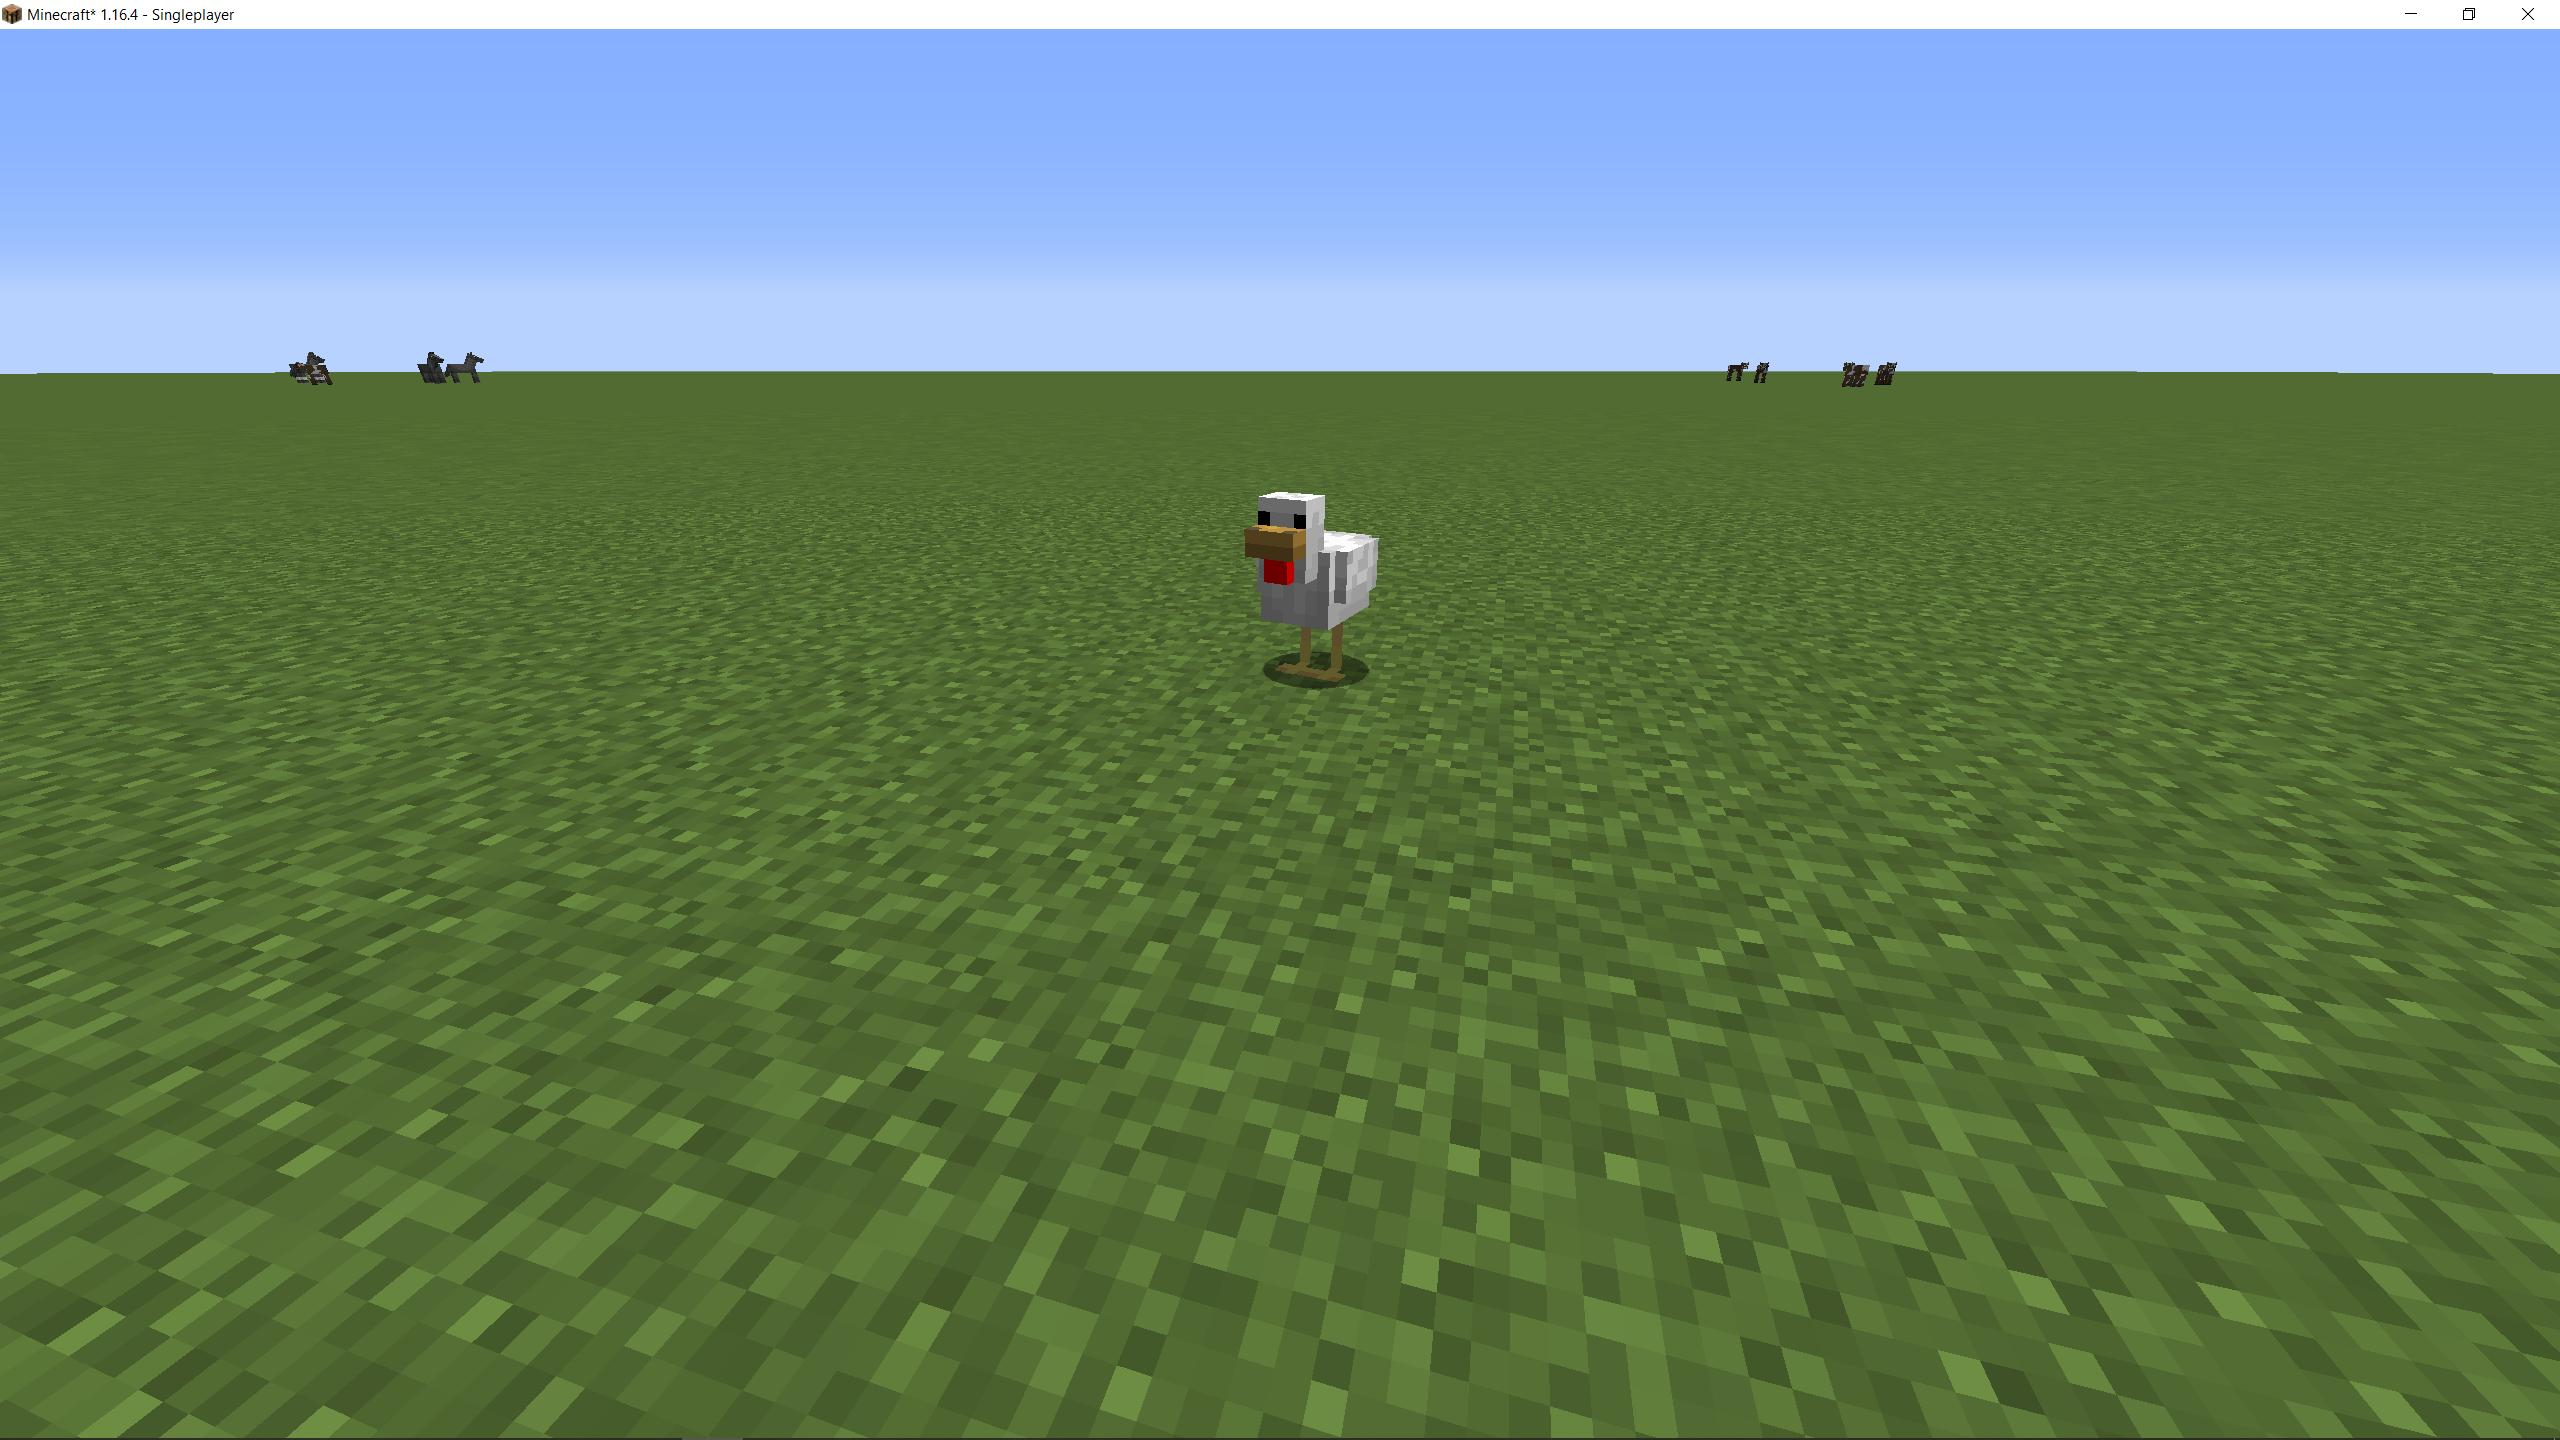chicken: (1247, 480, 1385, 696)
